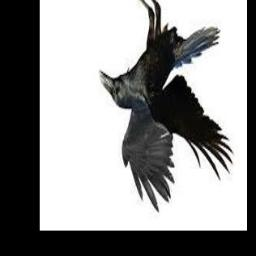Crow: (100, 0, 233, 212)
